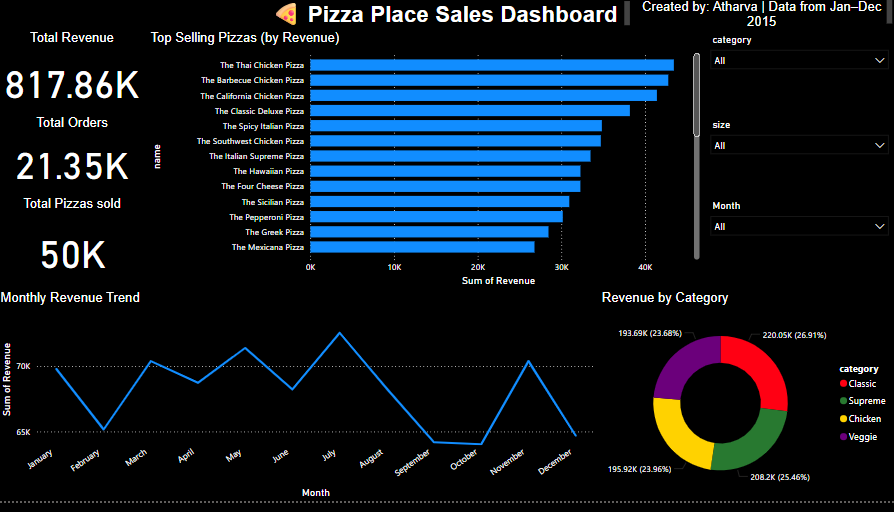

The page's visual inventory and layout, read from the dashboard file:
{"tool":"powerbi","page":{"name":"Page 1","canvas":[1280,720],"ordinal":0},"visuals":[{"type":"card","title":"Total Revenue","fields":{"Values":["Sum(order_details.Revenue)"]},"box":[0,48.1,213.6,121],"z":0},{"type":"card","title":"Total Orders","fields":{"Values":["CountNonNull(orders.order_id)"]},"box":[0,169.1,213.6,115.7],"z":1000},{"type":"card","title":"Total Pizzas sold","fields":{"Values":["Sum(order_details.quantity)"]},"box":[0,284.8,213.6,133.5],"z":2000},{"type":"clusteredBarChart","title":"Top Selling Pizzas (by Revenue)","fields":{"Category":["pizza_types.name"],"Y":["Sum(order_details.Revenue)"]},"box":[213.6,48.1,792,370.2],"z":3000},{"type":"lineChart","title":"Monthly Revenue Trend","fields":{"Category":["orders.date.Variation.Date Hierarchy.Month"],"Y":["Sum(order_details.Revenue)"]},"box":[0,418.2,856.1,302.6],"z":4000},{"type":"donutChart","title":"Revenue by Category","fields":{"Category":["pizza_types.category"],"Y":["Sum(order_details.Revenue)"]},"box":[856.1,418.2,423.6,302.6],"z":5000},{"type":"slicer","fields":{"Values":["pizza_types.category"]},"box":[1005.6,48.1,274.1,121],"z":6000},{"type":"slicer","fields":{"Values":["pizzas.size"]},"box":[1005.6,169.1,274.1,115.7],"z":7000},{"type":"slicer","fields":{"Values":["orders.date.Variation.Date Hierarchy.Month"]},"box":[1005.6,284.8,274.1,133.5],"z":8000},{"type":"textbox","box":[375.5,0,530.4,48.1],"z":9000},{"type":"textbox","box":[905.9,0,373.8,48.1],"z":9001}]}

Visuals, with their boxes in screenshot pixels (x1, y1, x2, y2), scaled from the page's 1280x720 canvas onto the 894x512 screenshot:
"Total Revenue" card: [left=0, top=34, right=149, bottom=120]
"Total Orders" card: [left=0, top=120, right=149, bottom=203]
"Total Pizzas sold" card: [left=0, top=203, right=149, bottom=297]
"Top Selling Pizzas (by Revenue)" clusteredBarChart: [left=149, top=34, right=702, bottom=297]
"Monthly Revenue Trend" lineChart: [left=0, top=297, right=598, bottom=511]
"Revenue by Category" donutChart: [left=598, top=297, right=893, bottom=511]
slicer - pizza_types.category: [left=702, top=34, right=893, bottom=120]
slicer - pizzas.size: [left=702, top=120, right=893, bottom=203]
slicer - orders.date.Variation.Date Hierarchy.Month: [left=702, top=203, right=893, bottom=297]
textbox: [left=262, top=0, right=633, bottom=34]
textbox: [left=633, top=0, right=893, bottom=34]
